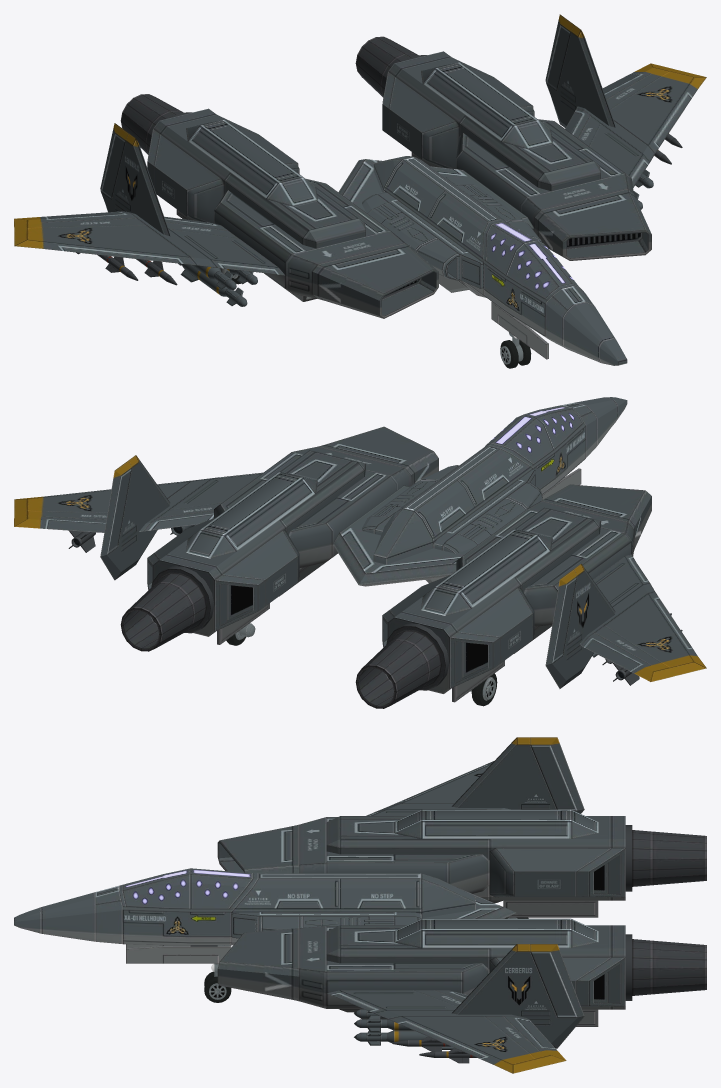
File: hellhound-detail.glb
3 views of the same model, one above another, from view 1: azimuth 30°, elevation 25°; view 2: azimuth 150°, elevation 25°; view 3: azimuth 270°, elevation 25° (orthographic). The views are drawn at different scales.
Visible parts, largest first — view 1: hellhound; view 2: hellhound; view 3: hellhound.
Boxes of the visible parts, x1,y1,x2,y2 form: hellhound: (14, 14, 706, 368); hellhound: (14, 397, 706, 708); hellhound: (14, 737, 706, 1073).
Bounding box in the file's own units: 24 × 5.52 × 21.86.
6 materials, 6 textured.
